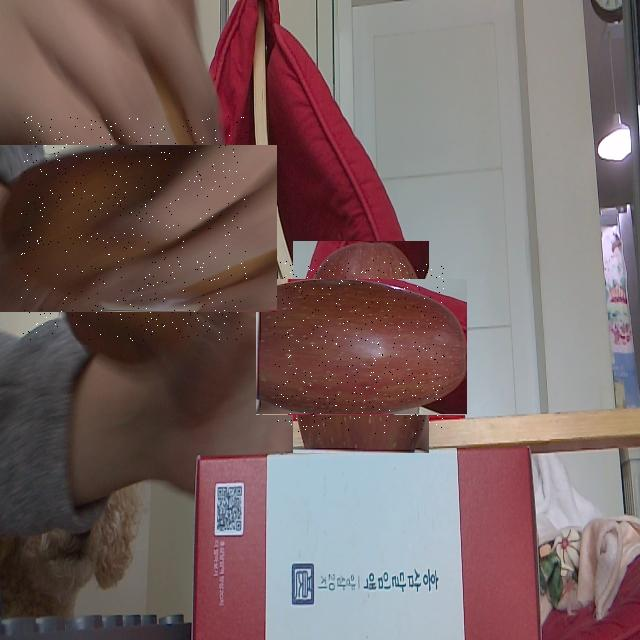apple: (21, 116, 248, 341), (274, 260, 448, 434)
